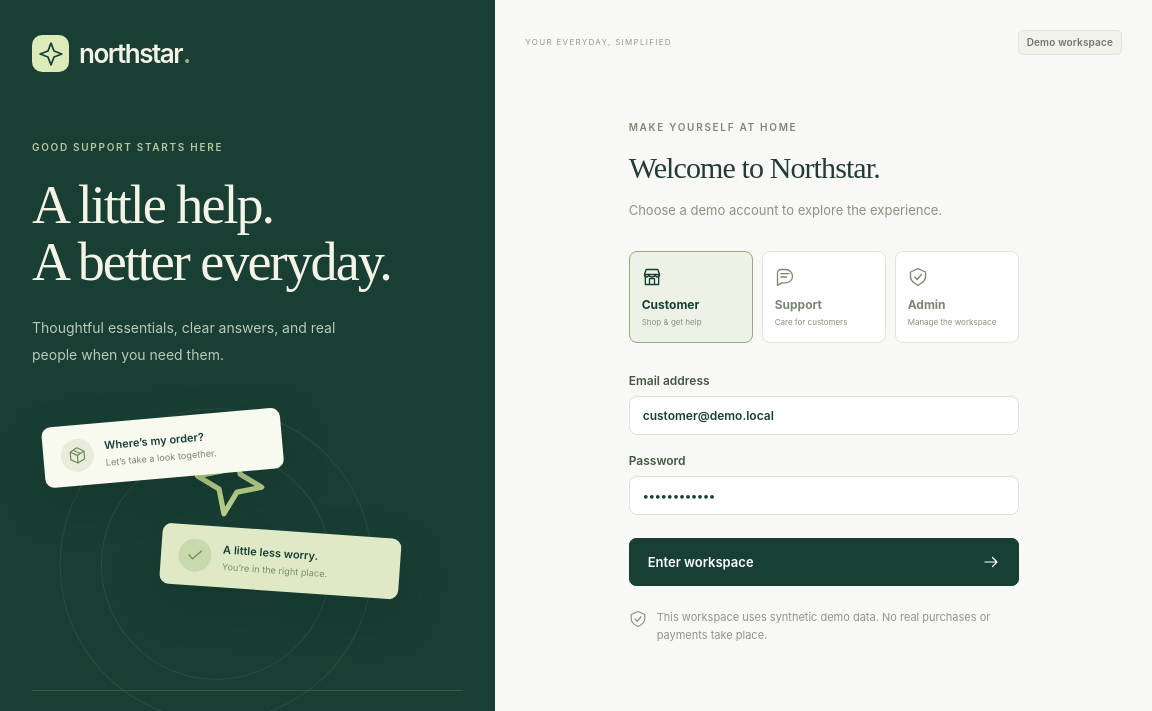
demo login › keeps the login form open when credentials are rejected
Click the button "Enter workspace": click(701, 562) [629,538,1019,586]
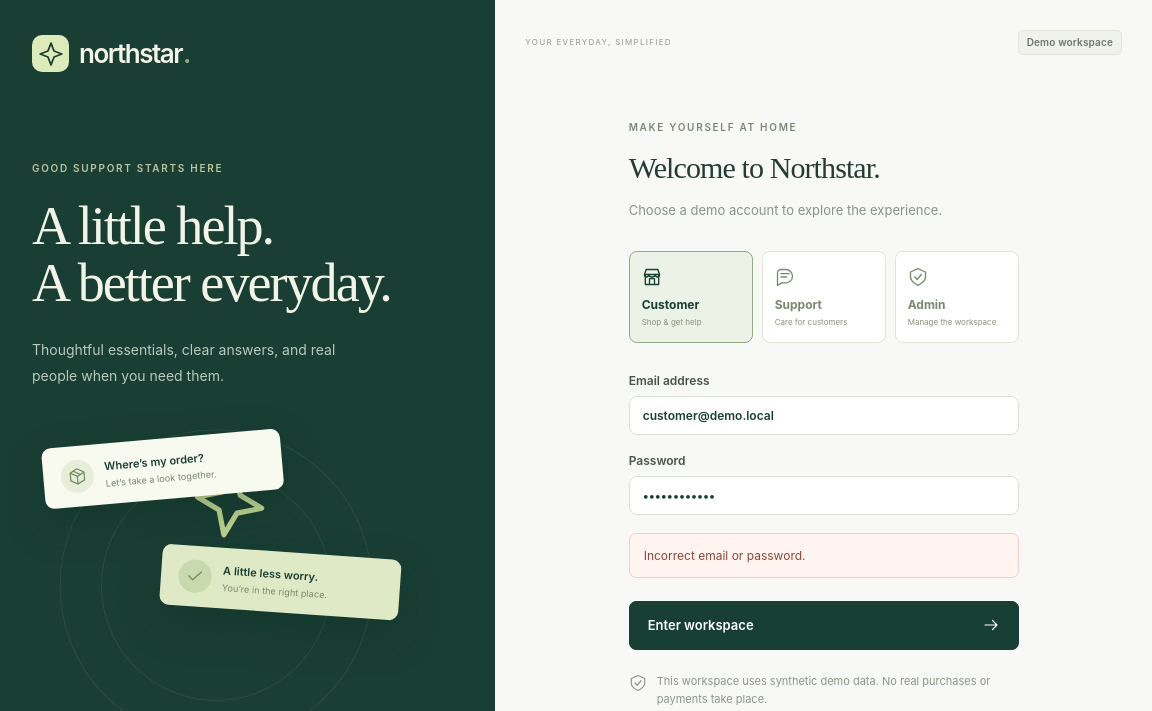
Check: the message reads "Incorrect email or password.", box [644,548,806,563]
